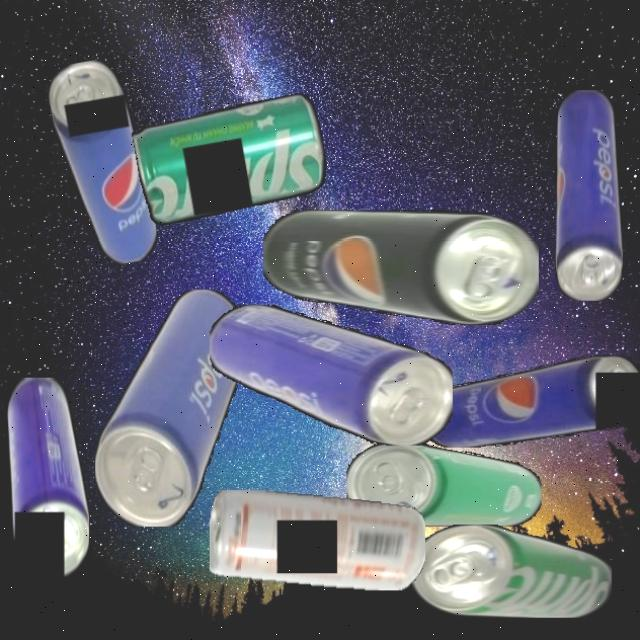debris: (94, 288, 246, 526), (208, 304, 452, 446), (262, 210, 539, 325), (131, 91, 332, 228), (44, 55, 161, 271), (209, 489, 425, 590), (424, 356, 640, 448), (412, 524, 612, 618), (6, 377, 89, 577), (346, 442, 542, 526), (554, 89, 623, 301)
